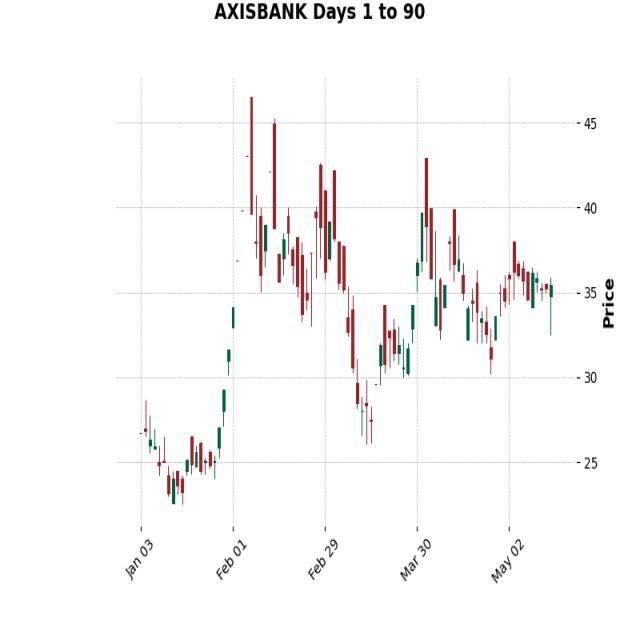Ascending Triangle: (277, 136, 436, 448)
